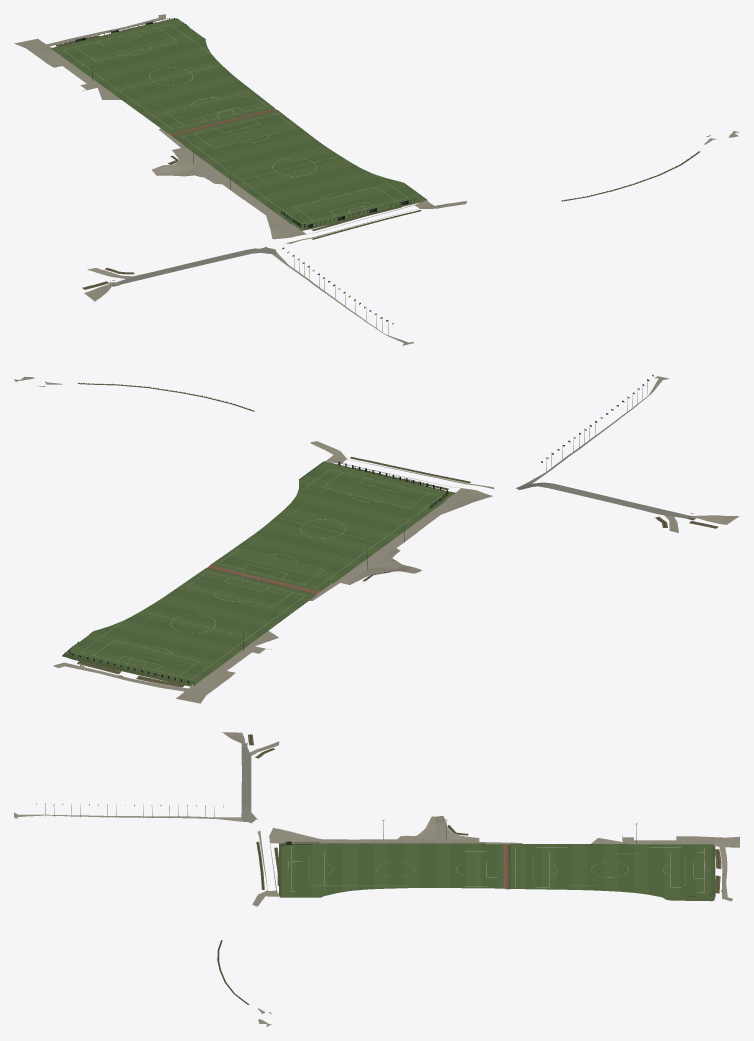
The model's file is site.glb.
3 views of the same model, one above another, from view 1: azimuth 30°, elevation 25°; view 2: azimuth 150°, elevation 25°; view 3: azimuth 270°, elevation 25° (orthographic). The views are drawn at different scales.
Parts seen in each view (by area): view 1: hayward-midblock-paving, hayward-midblock-furnishings, hayward-midblock-planting; view 2: hayward-midblock-paving, hayward-midblock-furnishings, hayward-midblock-planting; view 3: hayward-midblock-paving.
Boxes of the visible parts, x1,y1,x2,y2 form: hayward-midblock-paving: (14,14,739,345); hayward-midblock-furnishings: (53,18,414,334); hayward-midblock-planting: (56,22,699,288); hayward-midblock-paving: (14,376,739,703); hayward-midblock-furnishings: (68,374,693,685); hayward-midblock-planting: (78,382,717,686); hayward-midblock-paving: (14,732,739,1026).
Size of the model in its own units: 326 by 13.14 by 354.
